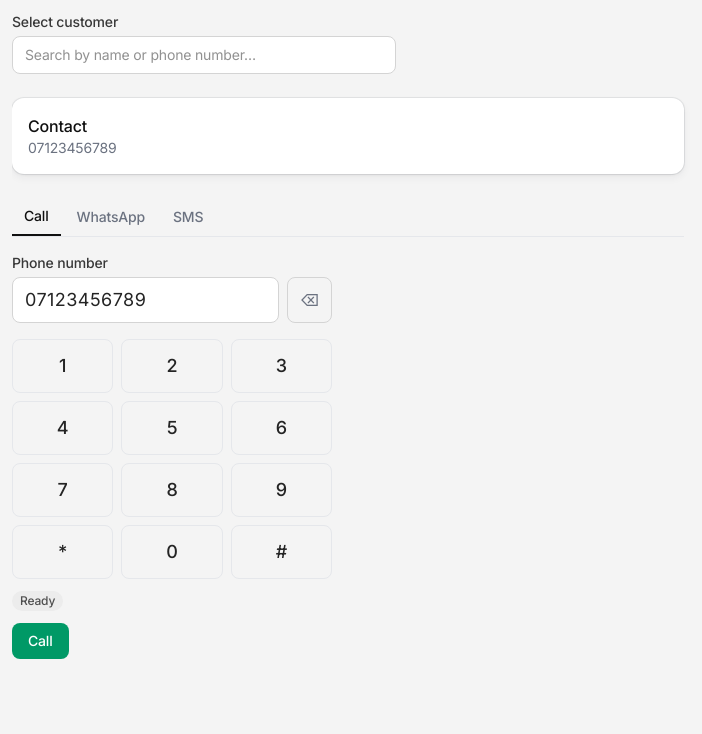
Test case: ContactCustomer — browser dialler › shows a clear error when microphone access is blocked
Check: the text "Ready" is shown, box x1=12 y1=591 x2=63 y2=611
Click the button with aria-label "Place call".
click(40, 641)  # box x1=12 y1=623 x2=69 y2=659
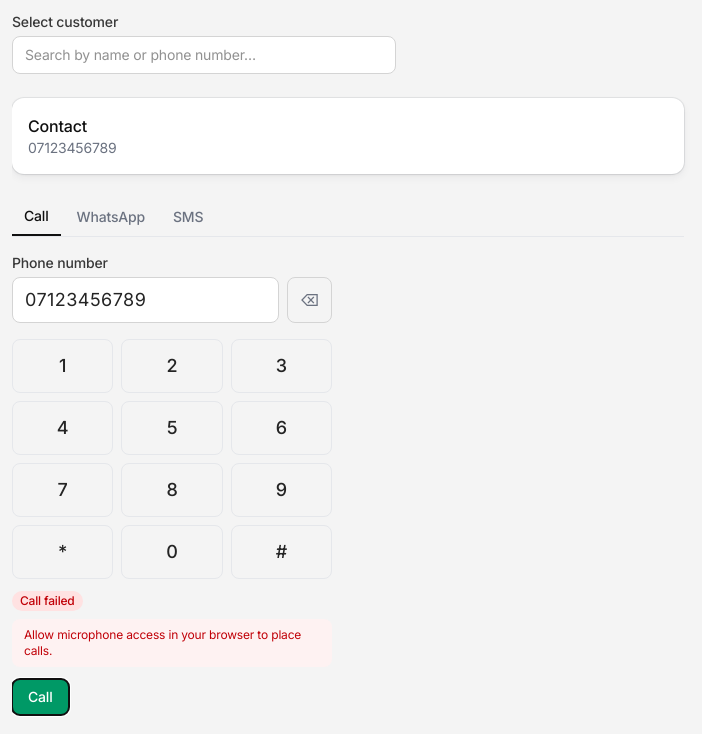
Check: the text "Allow microphone access in your browser to place calls." is shown, box x1=12 y1=619 x2=332 y2=667
